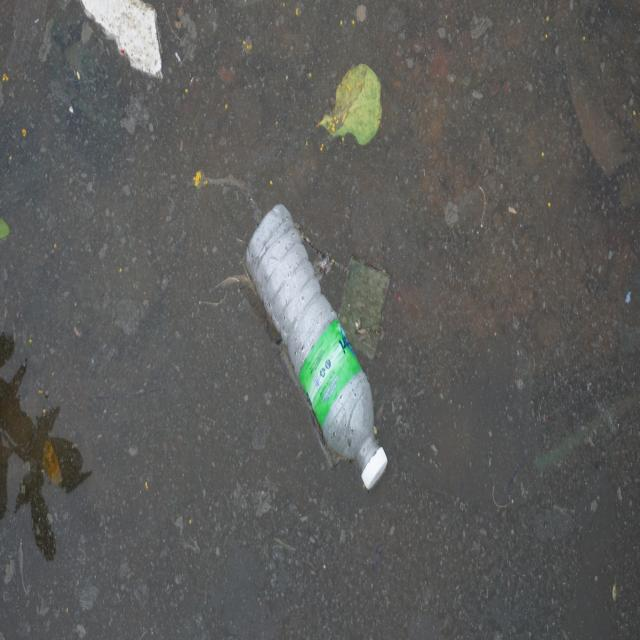Botol Plastik: (244, 199, 393, 487)
